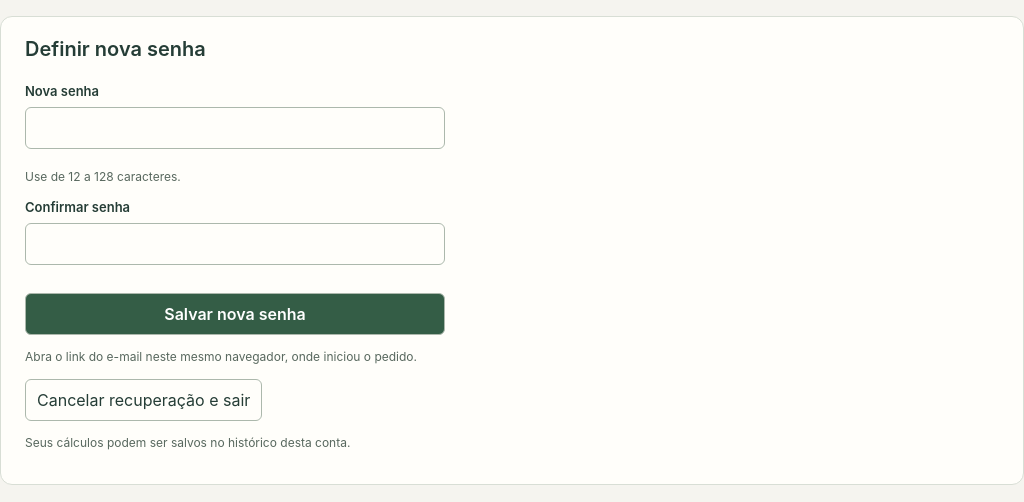
Test: account interface › shows recovery before the signed-in view and completes password update
Expected: the text "Conectado como" is not shown
Step 1. Type "replacement-password" into the password field labelled "Nova senha" → (235, 128), box [25,107,445,149]
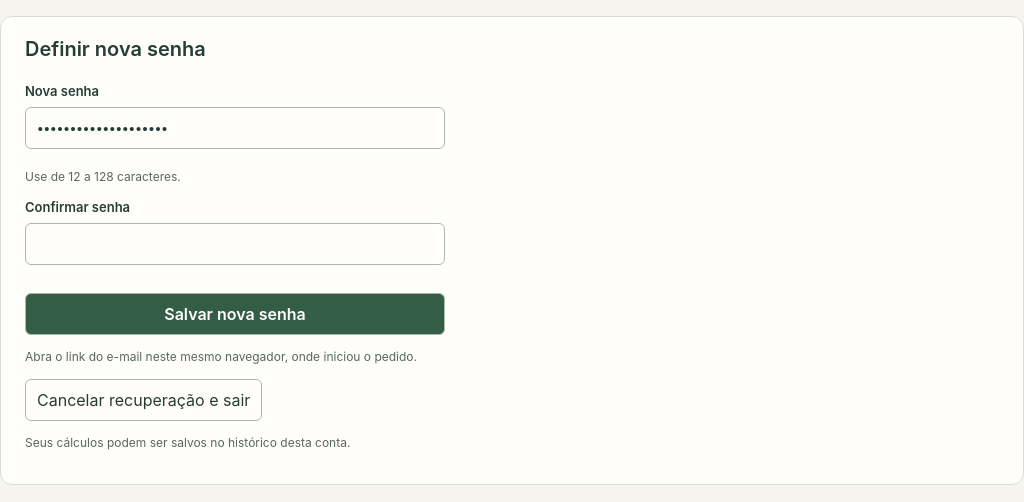
Step 2. Type "replacement-password" into the password field labelled "Confirmar senha" → (235, 244), box [25,223,445,265]
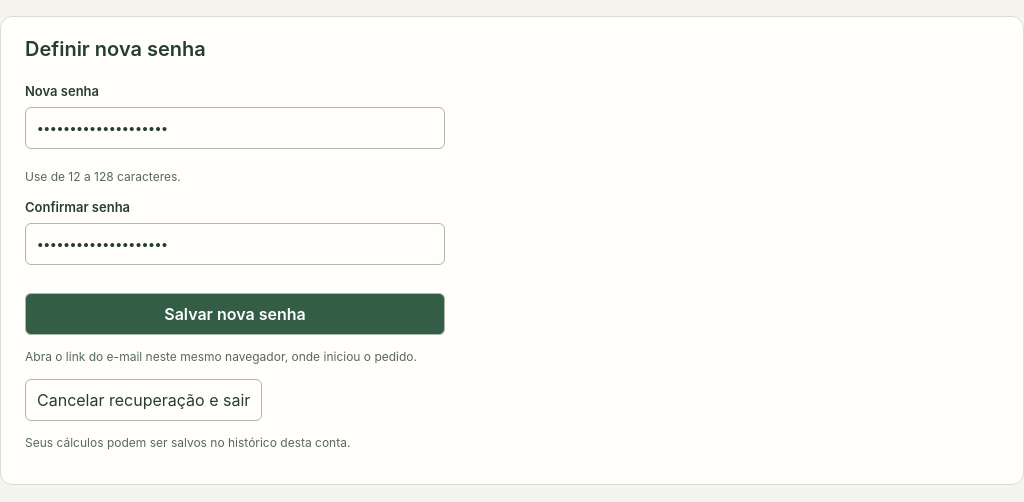
Step 3. Click the button "Salvar nova senha" → (235, 314), box [25,293,445,335]
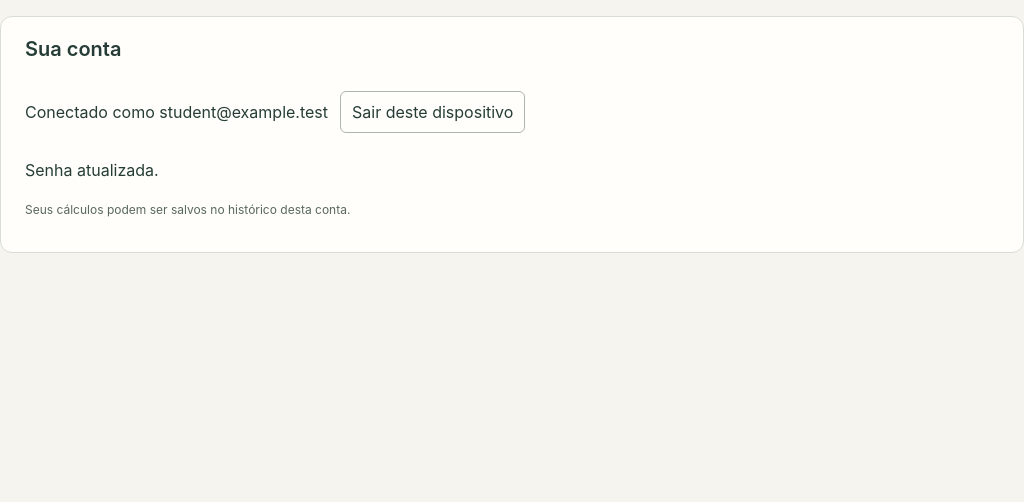
Expected: the text "Senha atualizada." is shown, [25,160,159,180]
